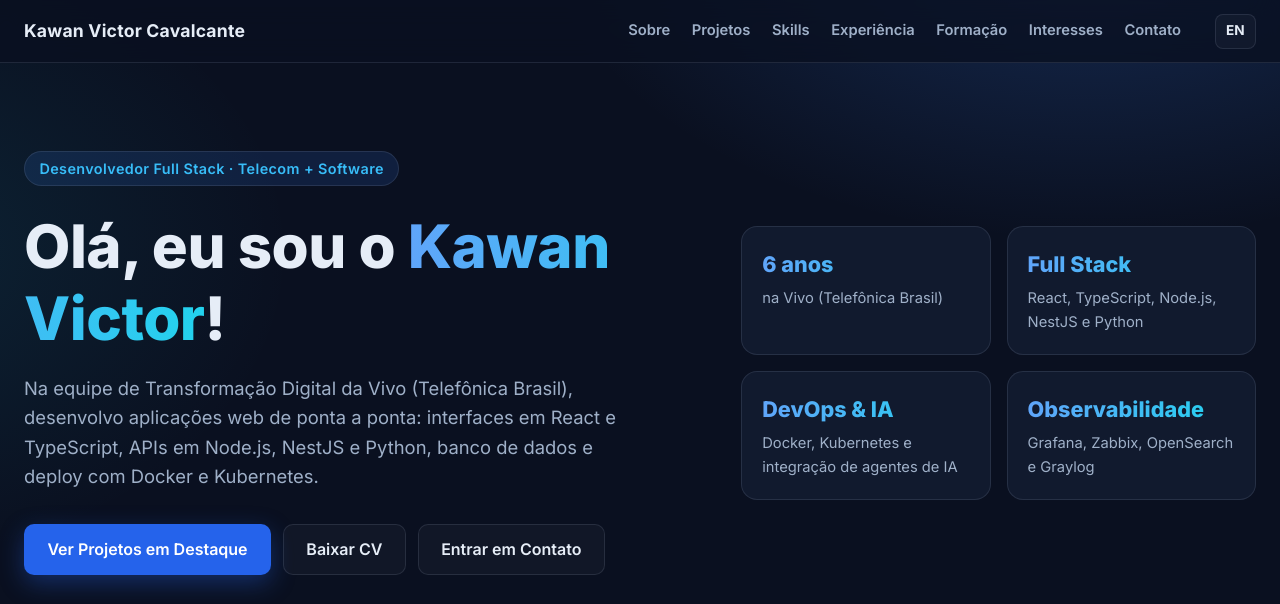
Scenario: App › o botão de idioma troca o texto, o endereço e guarda a escolha
Click the button with aria-label "Switch to English".
click(1235, 31)  # box [1215,14,1256,48]
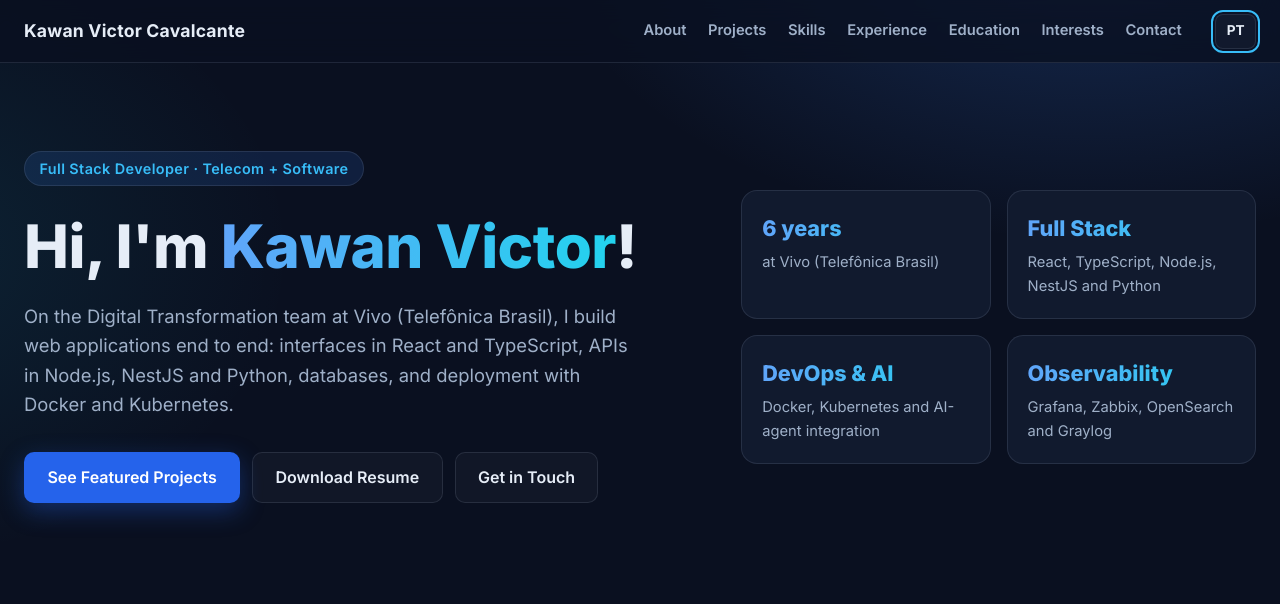
Click the button with aria-label "Mudar para português".
click(1236, 31)  # box [1215,14,1256,48]
(page scrolled)
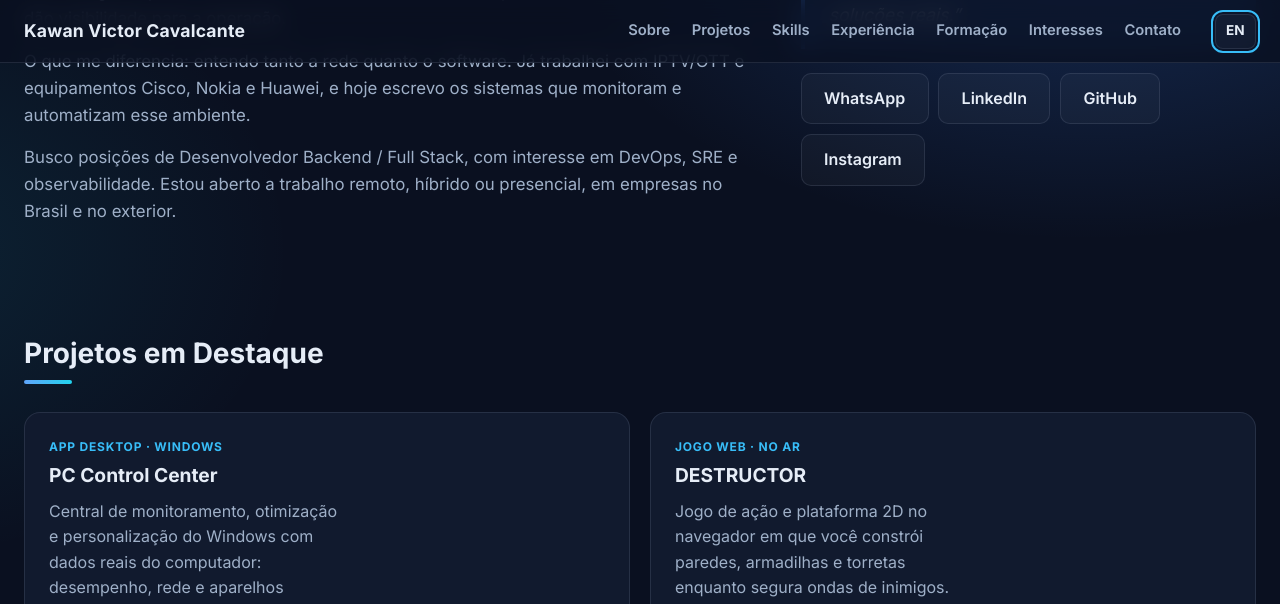
Expected: the heading "Projetos em Destaque" is shown, [24,336,324,370]
